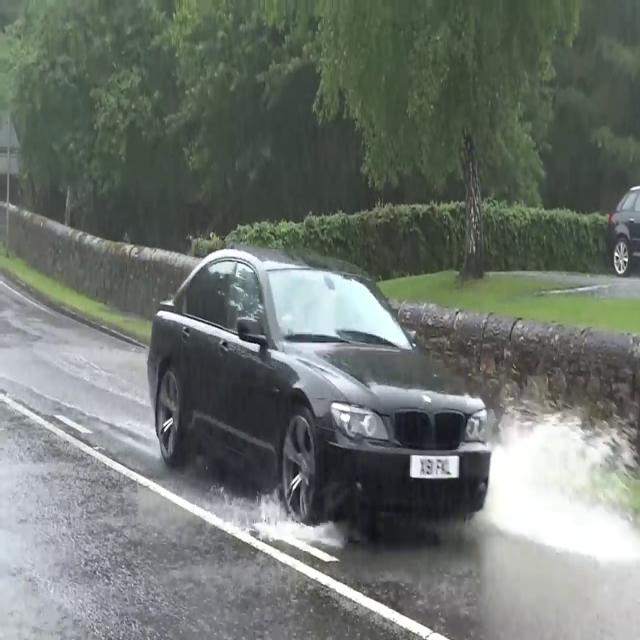license-plate-annotation: (413, 456, 460, 481)
